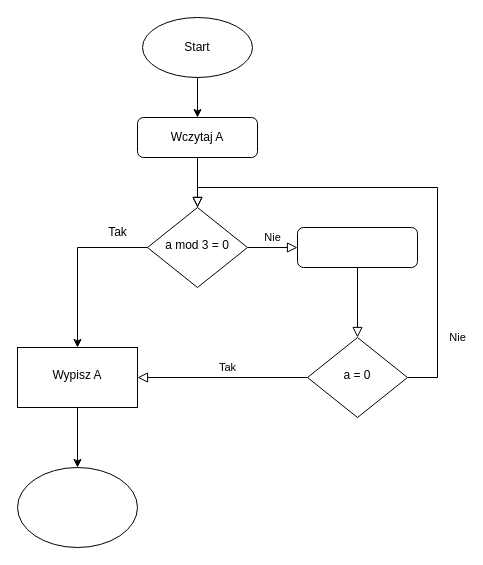
Image size: 483x565. Some labels were removed from this diagram. Here are the shapes that lost their labels. From the top down, the box of each, then its label:
(296, 226, 418, 268): a <- a div 2
(16, 466, 138, 548): Stop
